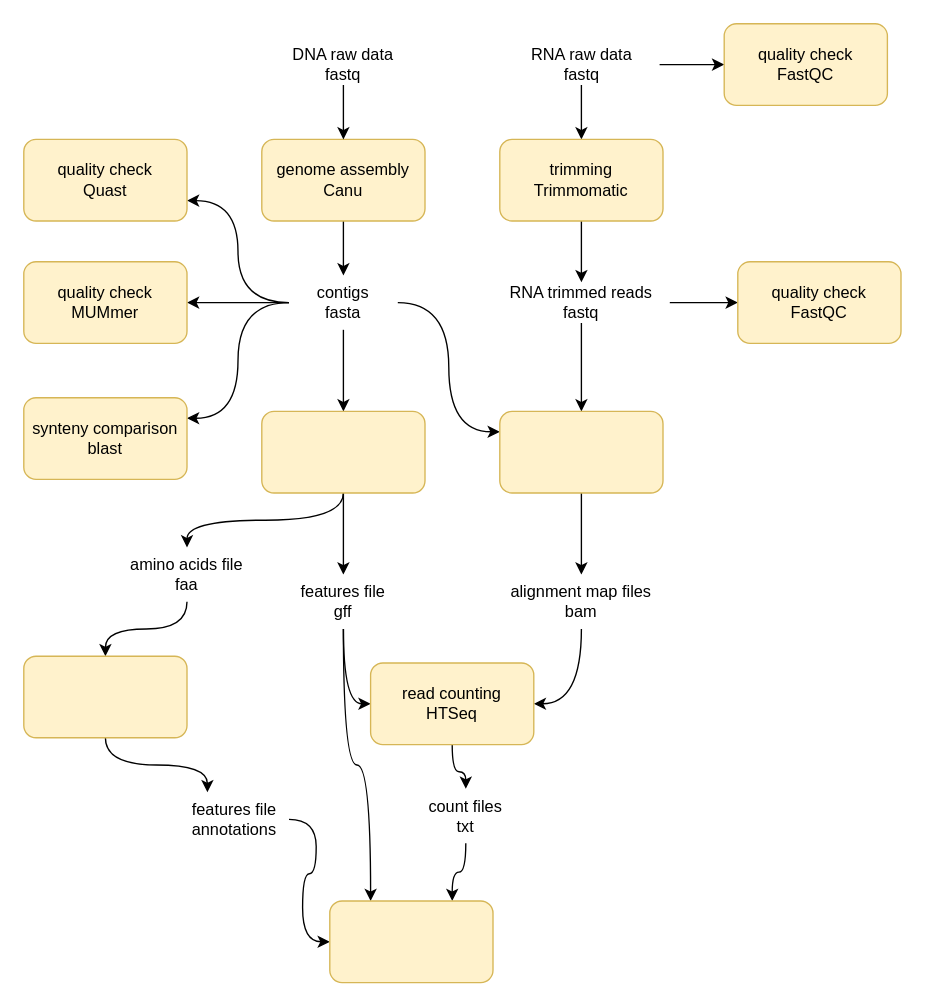
Some shapes in this 925 by 1006 pixel diagram are drawn without their labels. Here are the shapes that lost their labels. From the top down, the centre of each, then its label:
At point 342,451: "annotation Prokka".
At point 580,451: "RNA mapping BWA".
At point 104,696: "annotation eggNOGmapper".
At point 410,941: "differential analysis DESeq2".
